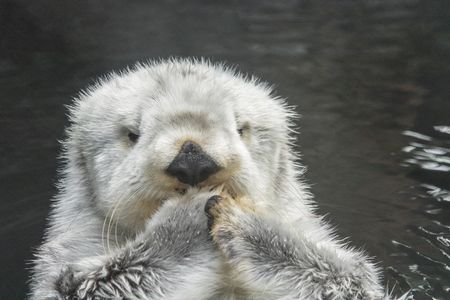otter: (37, 33, 358, 300)
